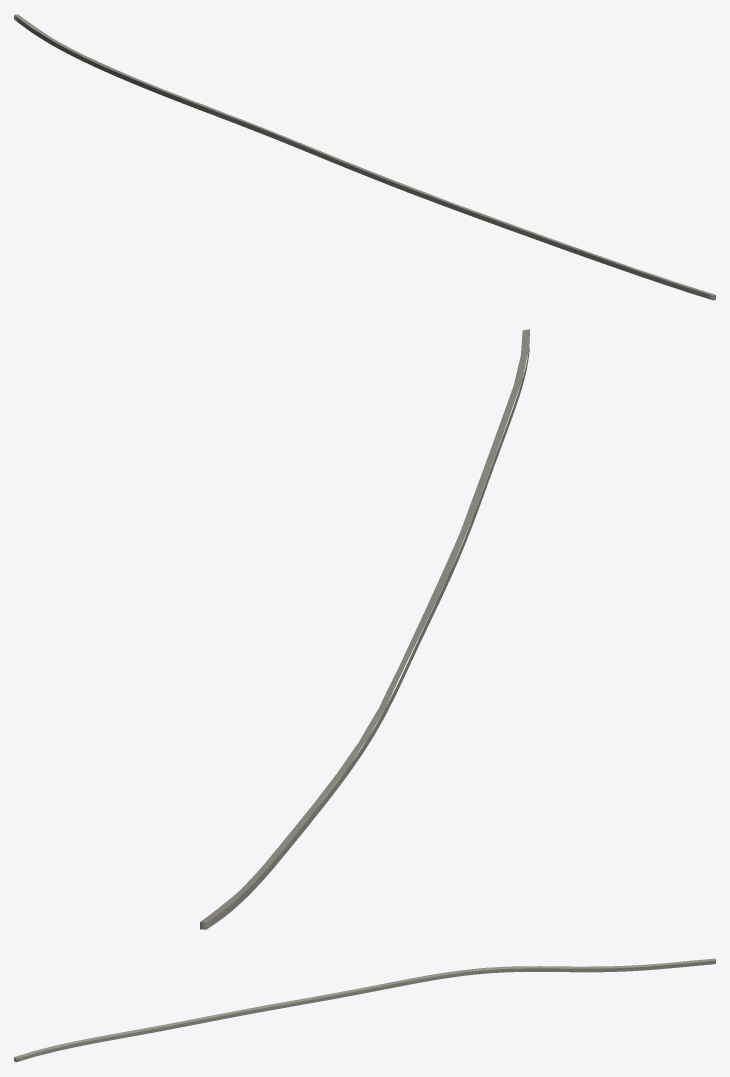
Rendered from curb_06.glb.
3 views of the same model, one above another, from view 1: azimuth 30°, elevation 25°; view 2: azimuth 150°, elevation 25°; view 3: azimuth 270°, elevation 25° (orthographic). The views are drawn at different scales.
Visible parts, largest first — view 1: curb_06.sides, curb_06.surface; view 2: curb_06.surface, curb_06.sides; view 3: curb_06.sides, curb_06.surface.
Part boxes in pixels (box(x1,y1,x2,y2)): curb_06.sides: box(14, 15, 715, 300); curb_06.surface: box(14, 14, 715, 295); curb_06.surface: box(200, 329, 529, 922); curb_06.sides: box(200, 333, 529, 929); curb_06.sides: box(14, 960, 715, 1062); curb_06.surface: box(14, 958, 715, 1058).
Size of the model in its own units: 9.01 by 0.7459 by 28.55.
Materials: 1 (1 with a texture image).
